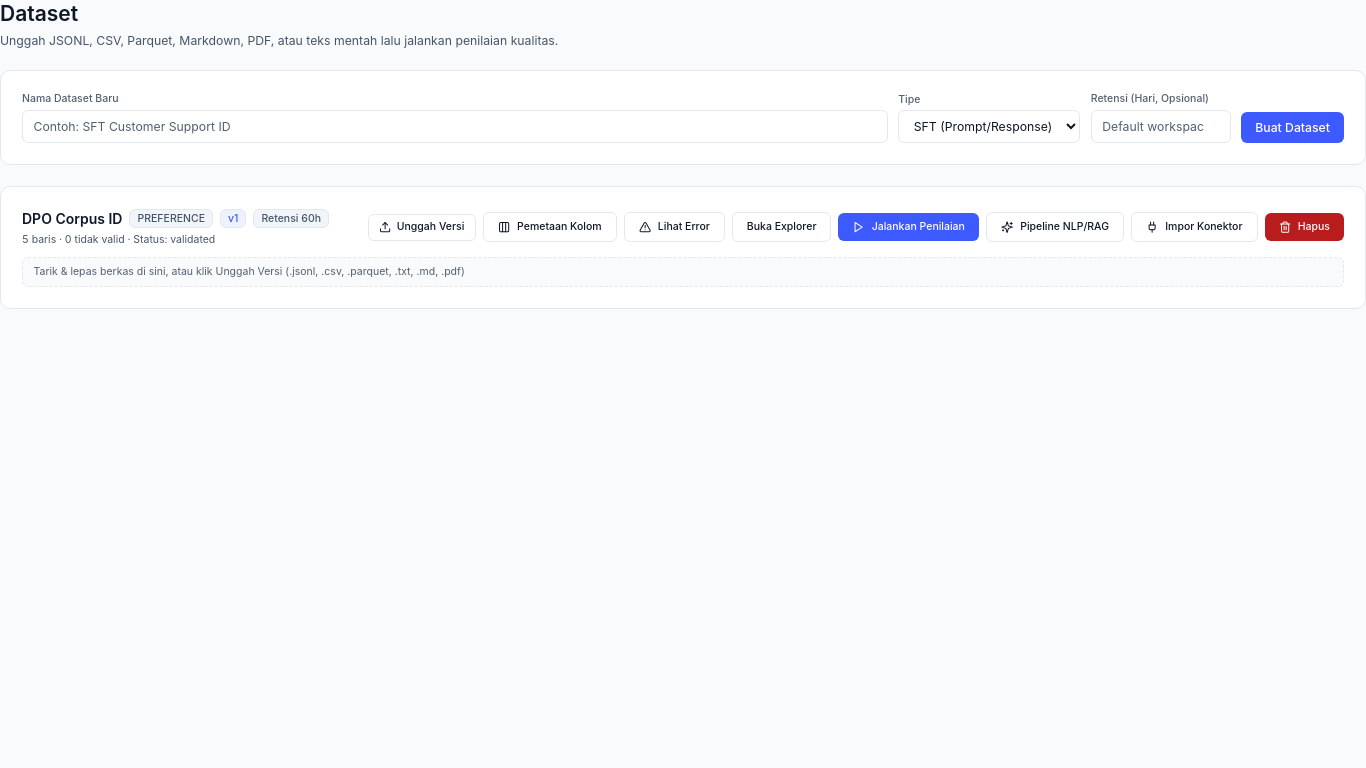
Test: Stage 4 P2 Enterprise & Benchmarks UI › supports Connector Import modal, chosen/rejected mapping, and Dataset Delete
Later steps or results of the test are not shown.
Expected: the text "Retensi 60h" is shown, [253,209,329,228]
Note: Open Column Mapping and verify chosen/rejected options exist
Click the button "Pemetaan Kolom": (550, 227) [483,212,616,242]
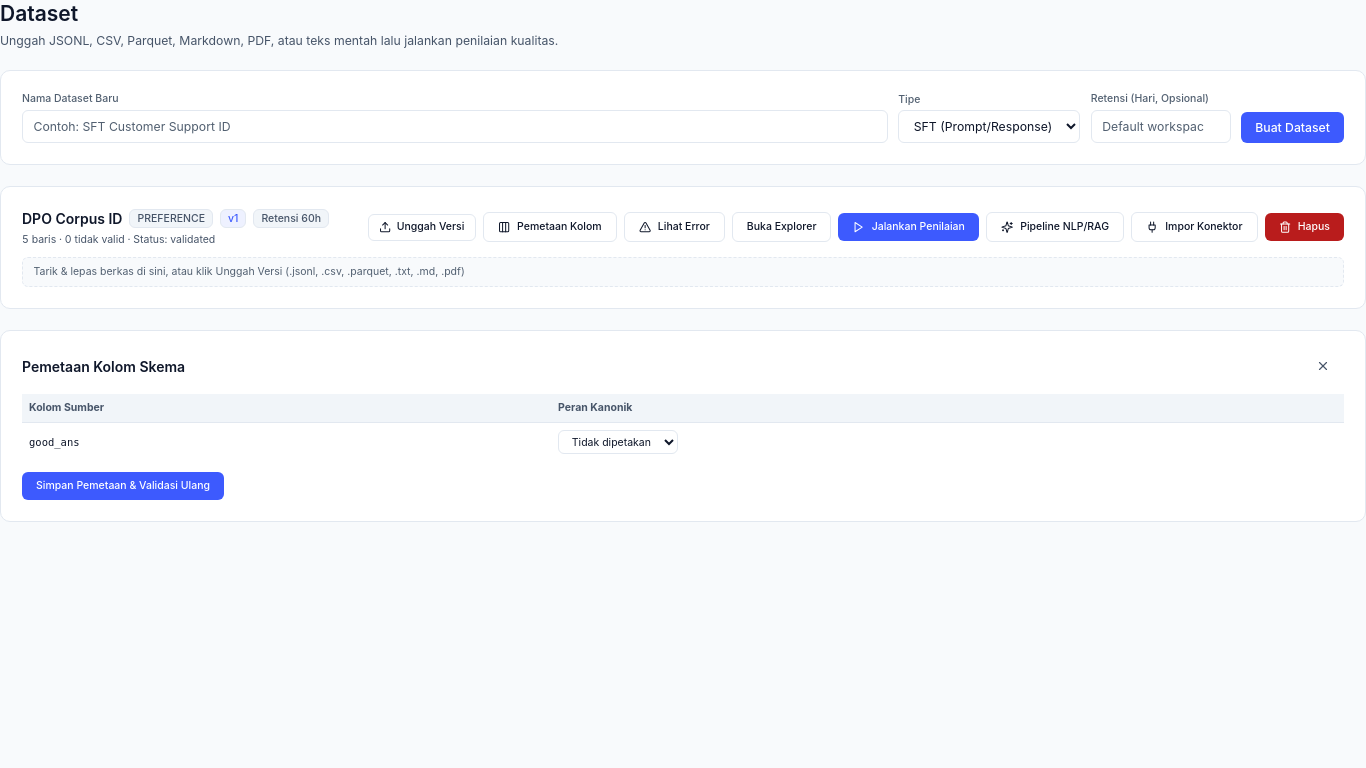
Note: Open Connector Import dialog and submit SQL connector
Click the button "Impor Konektor": (1194, 227) [1131,212,1258,242]
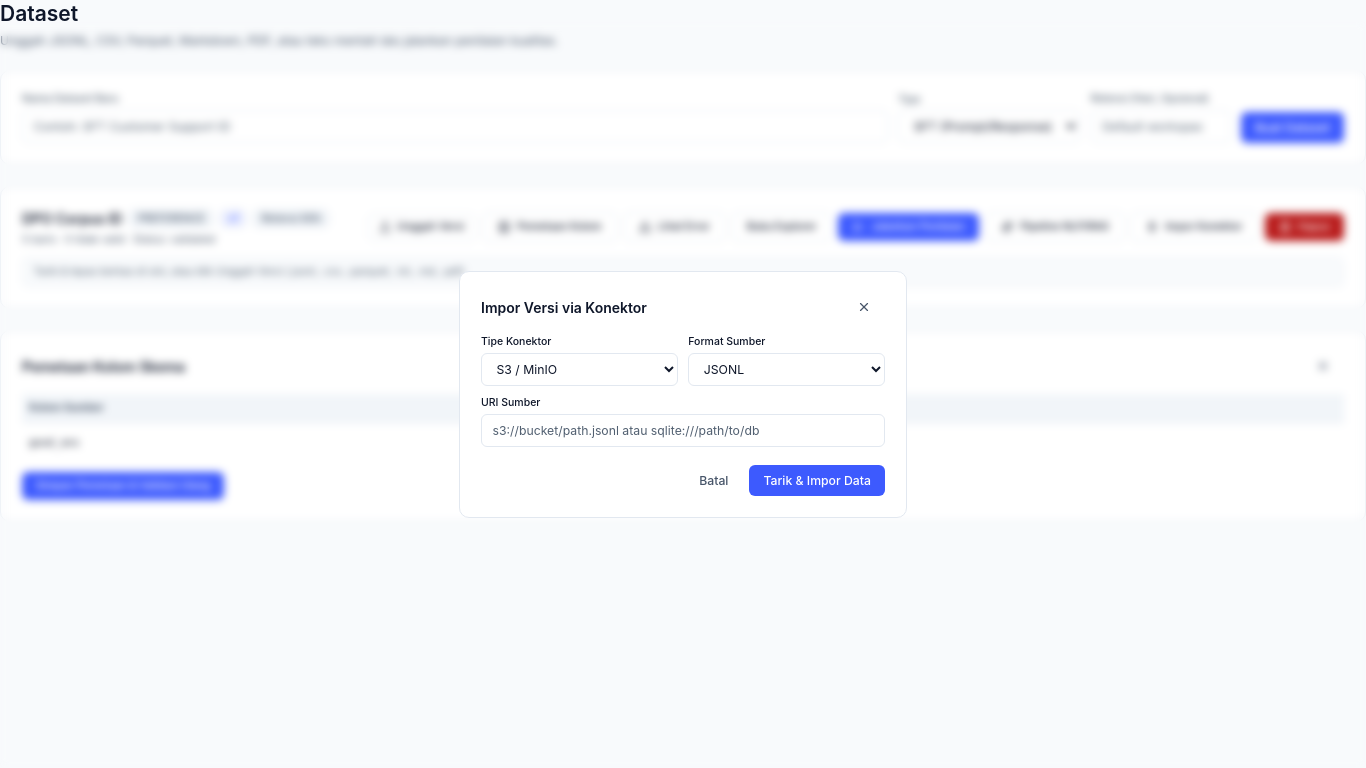
Expected: the dialog "Impor Versi via Konektor" is shown, [459,271,907,518]
